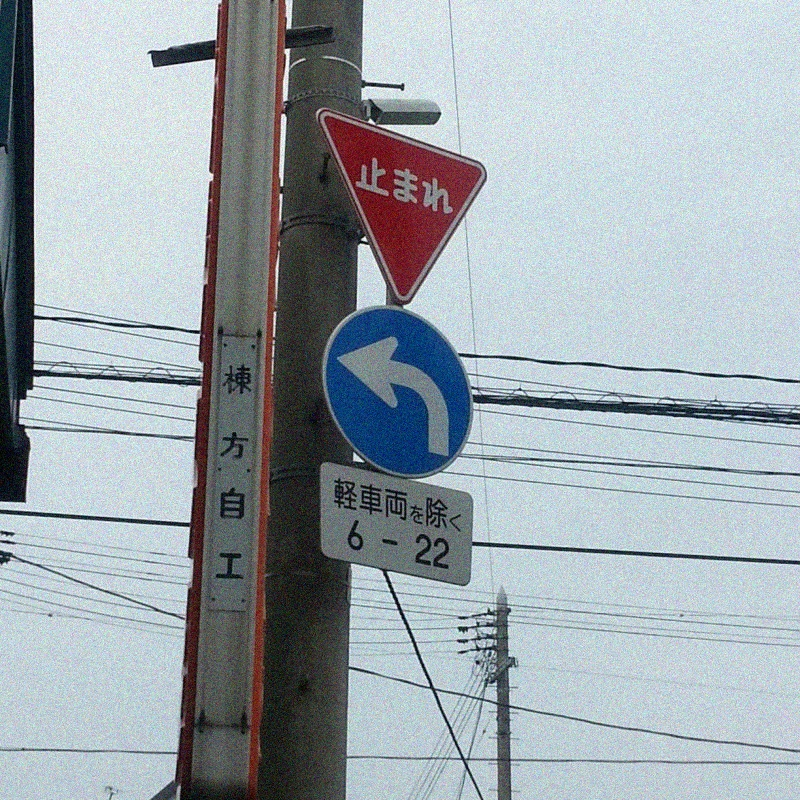Direction_sign: (309, 301, 491, 495)
